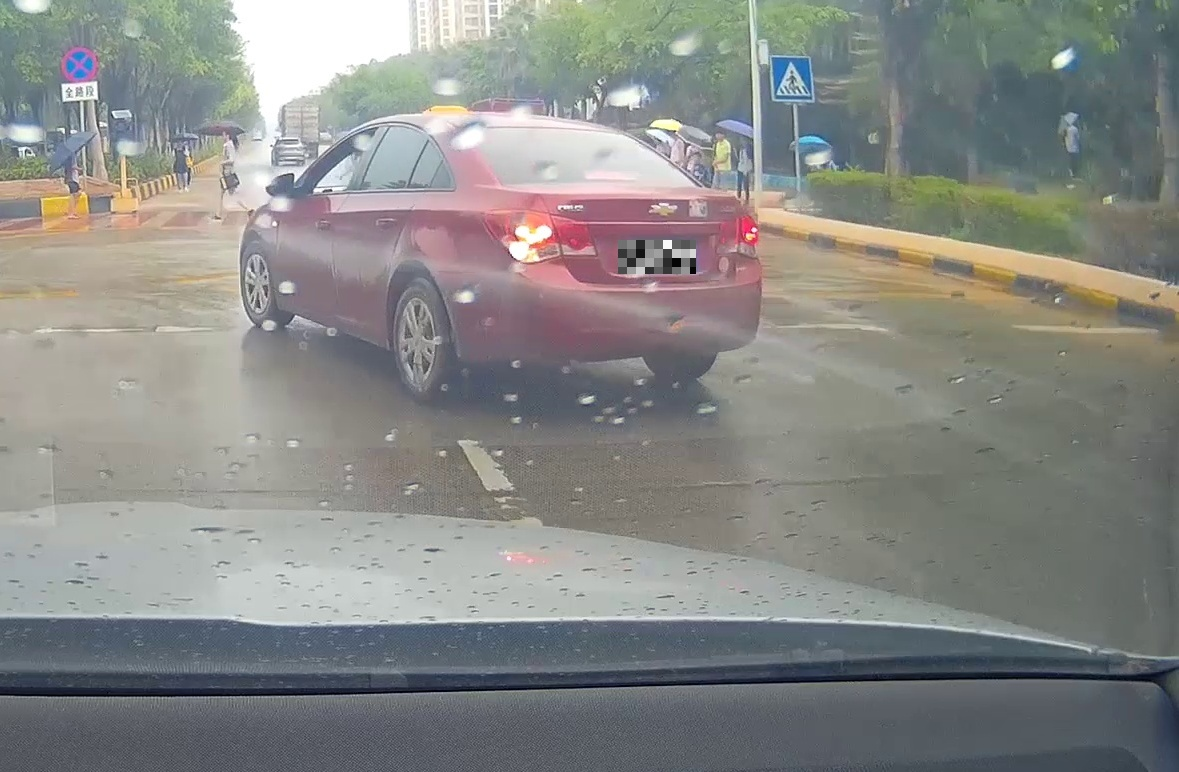L_light: (480, 208, 597, 265)
R_light: (716, 214, 758, 258)
T_light: (585, 171, 636, 180)
day-left: (458, 111, 763, 405)
plate_1: (618, 240, 696, 274)
